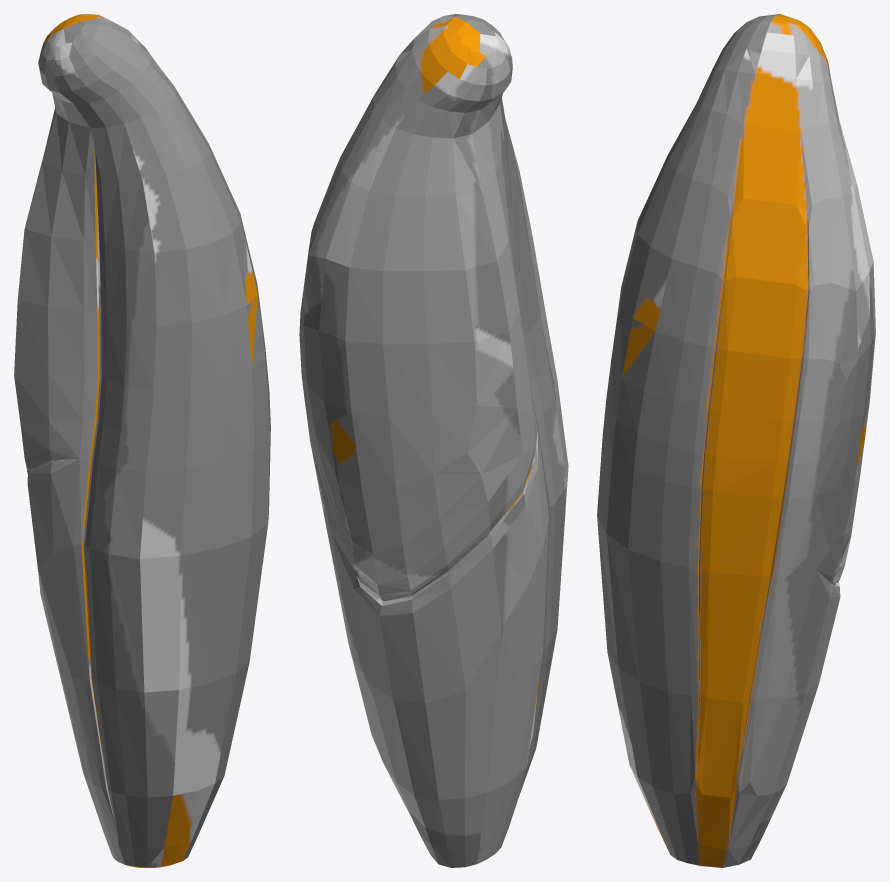
The model's file is LeftUpperLeg.obj.
3 renders of one model, left to right at view 1: azimuth 30°, elevation 25°; view 2: azimuth 150°, elevation 25°; view 3: azimuth 270°, elevation 25°, orthographic. The views are drawn at different scales.
Visible parts, largest first — view 1: LeftUpperLeg_Mesh.466; view 2: LeftUpperLeg_Mesh.466; view 3: LeftUpperLeg_Mesh.466.
Part boxes in pixels (box(x1,y1,x2,y2)): LeftUpperLeg_Mesh.466: box(14, 14, 270, 867); LeftUpperLeg_Mesh.466: box(299, 14, 568, 867); LeftUpperLeg_Mesh.466: box(597, 14, 875, 867).
Size of the model in its own units: 0.1181 by 0.4598 by 0.1406.
Materials: 1 (1 with a texture image).
